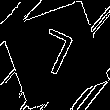L_SW: (30, 25, 80, 85)
